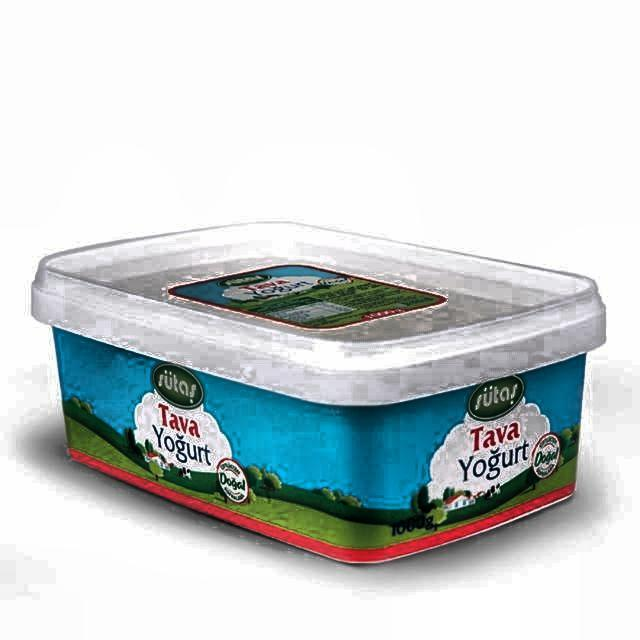plastic: (29, 214, 608, 567)
